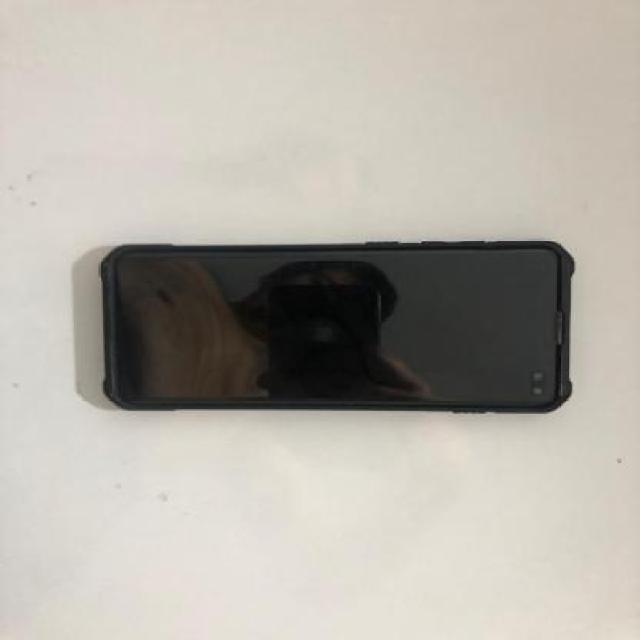phone: (100, 239, 574, 413)
